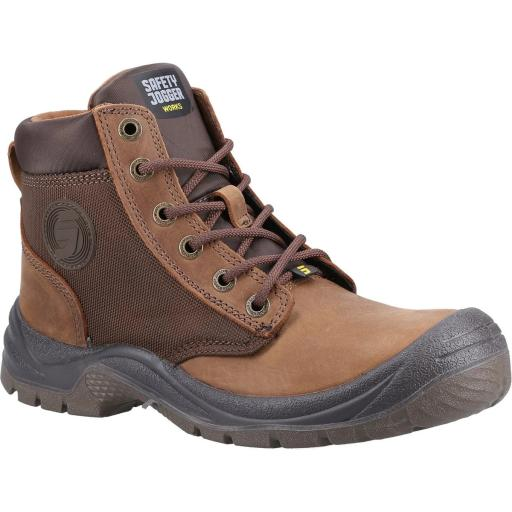safety_boots: (0, 68, 512, 458)
